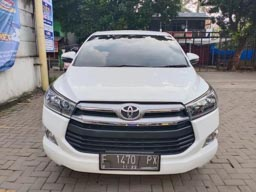plat: (100, 153, 159, 164)
